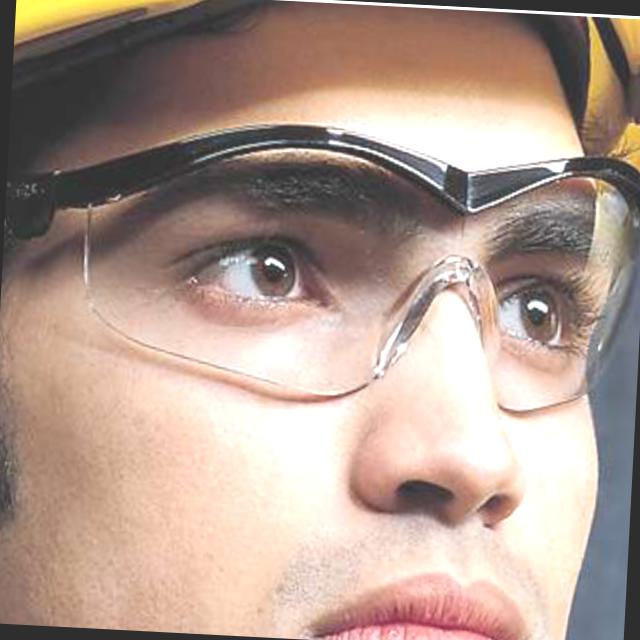goggles: (0, 106, 640, 427)
